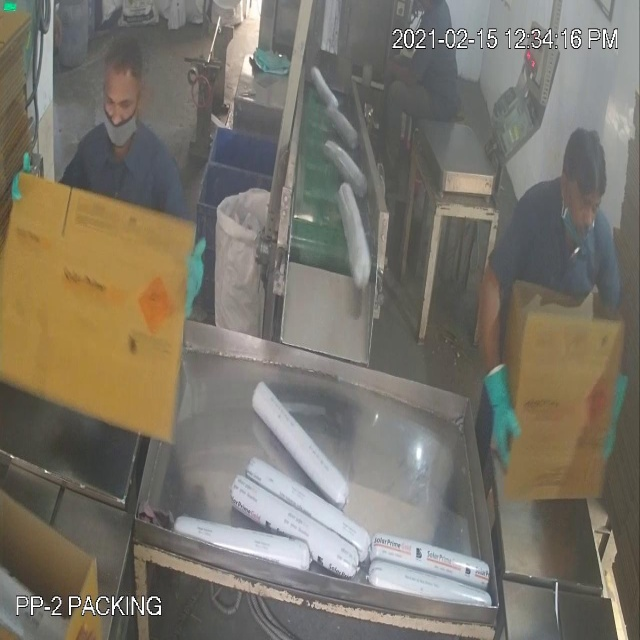Guantes: (476, 352, 524, 479)
Sin_guantes: (372, 48, 439, 94)
